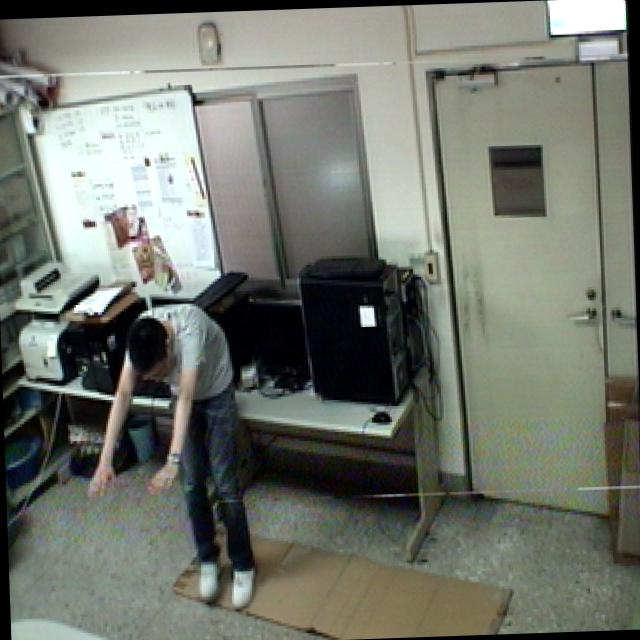bend: (75, 291, 266, 626)
